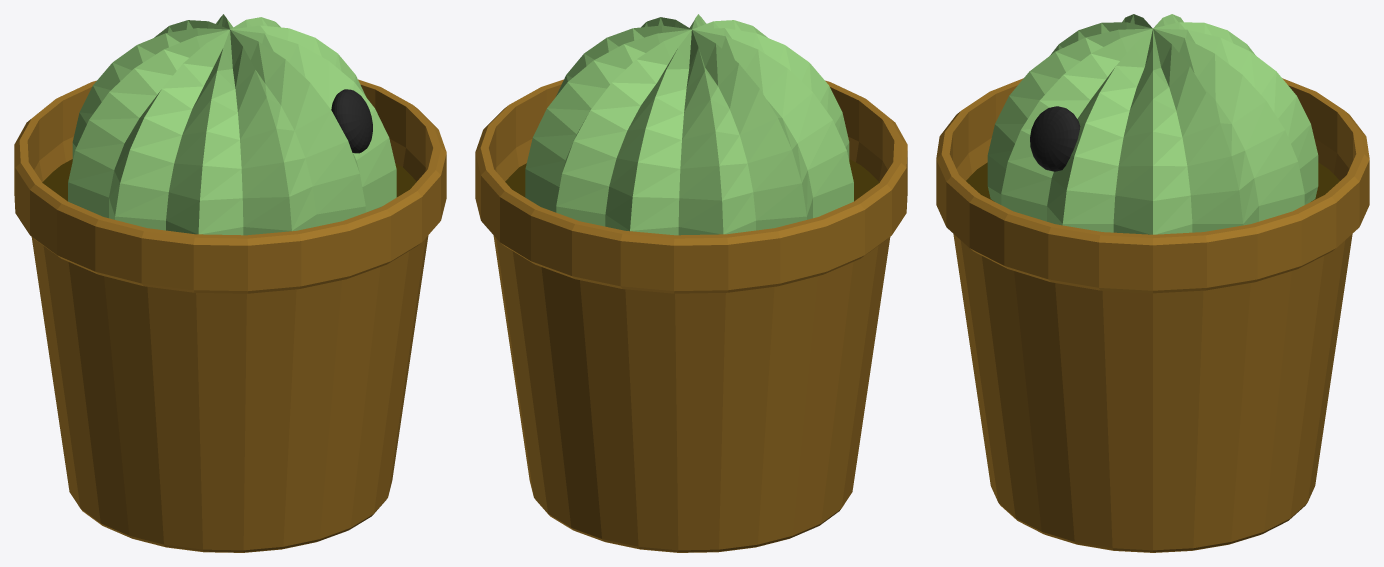
The model's file is Cactus_Pot_Export_2.fbx.
The picture shows the model from 3 angles, left to right: view 1: azimuth 30°, elevation 25°; view 2: azimuth 150°, elevation 25°; view 3: azimuth 270°, elevation 25°; orthographic projection.
Visible parts, largest first — view 1: Cactus_Pot1; view 2: Cactus_Pot1; view 3: Cactus_Pot1.
Boxes of the visible parts, x1,y1,x2,y2 form: Cactus_Pot1: (14, 14, 446, 552); Cactus_Pot1: (475, 14, 907, 552); Cactus_Pot1: (936, 14, 1369, 552).
Bounding box in the file's own units: 3.99 × 4.66 × 4.
